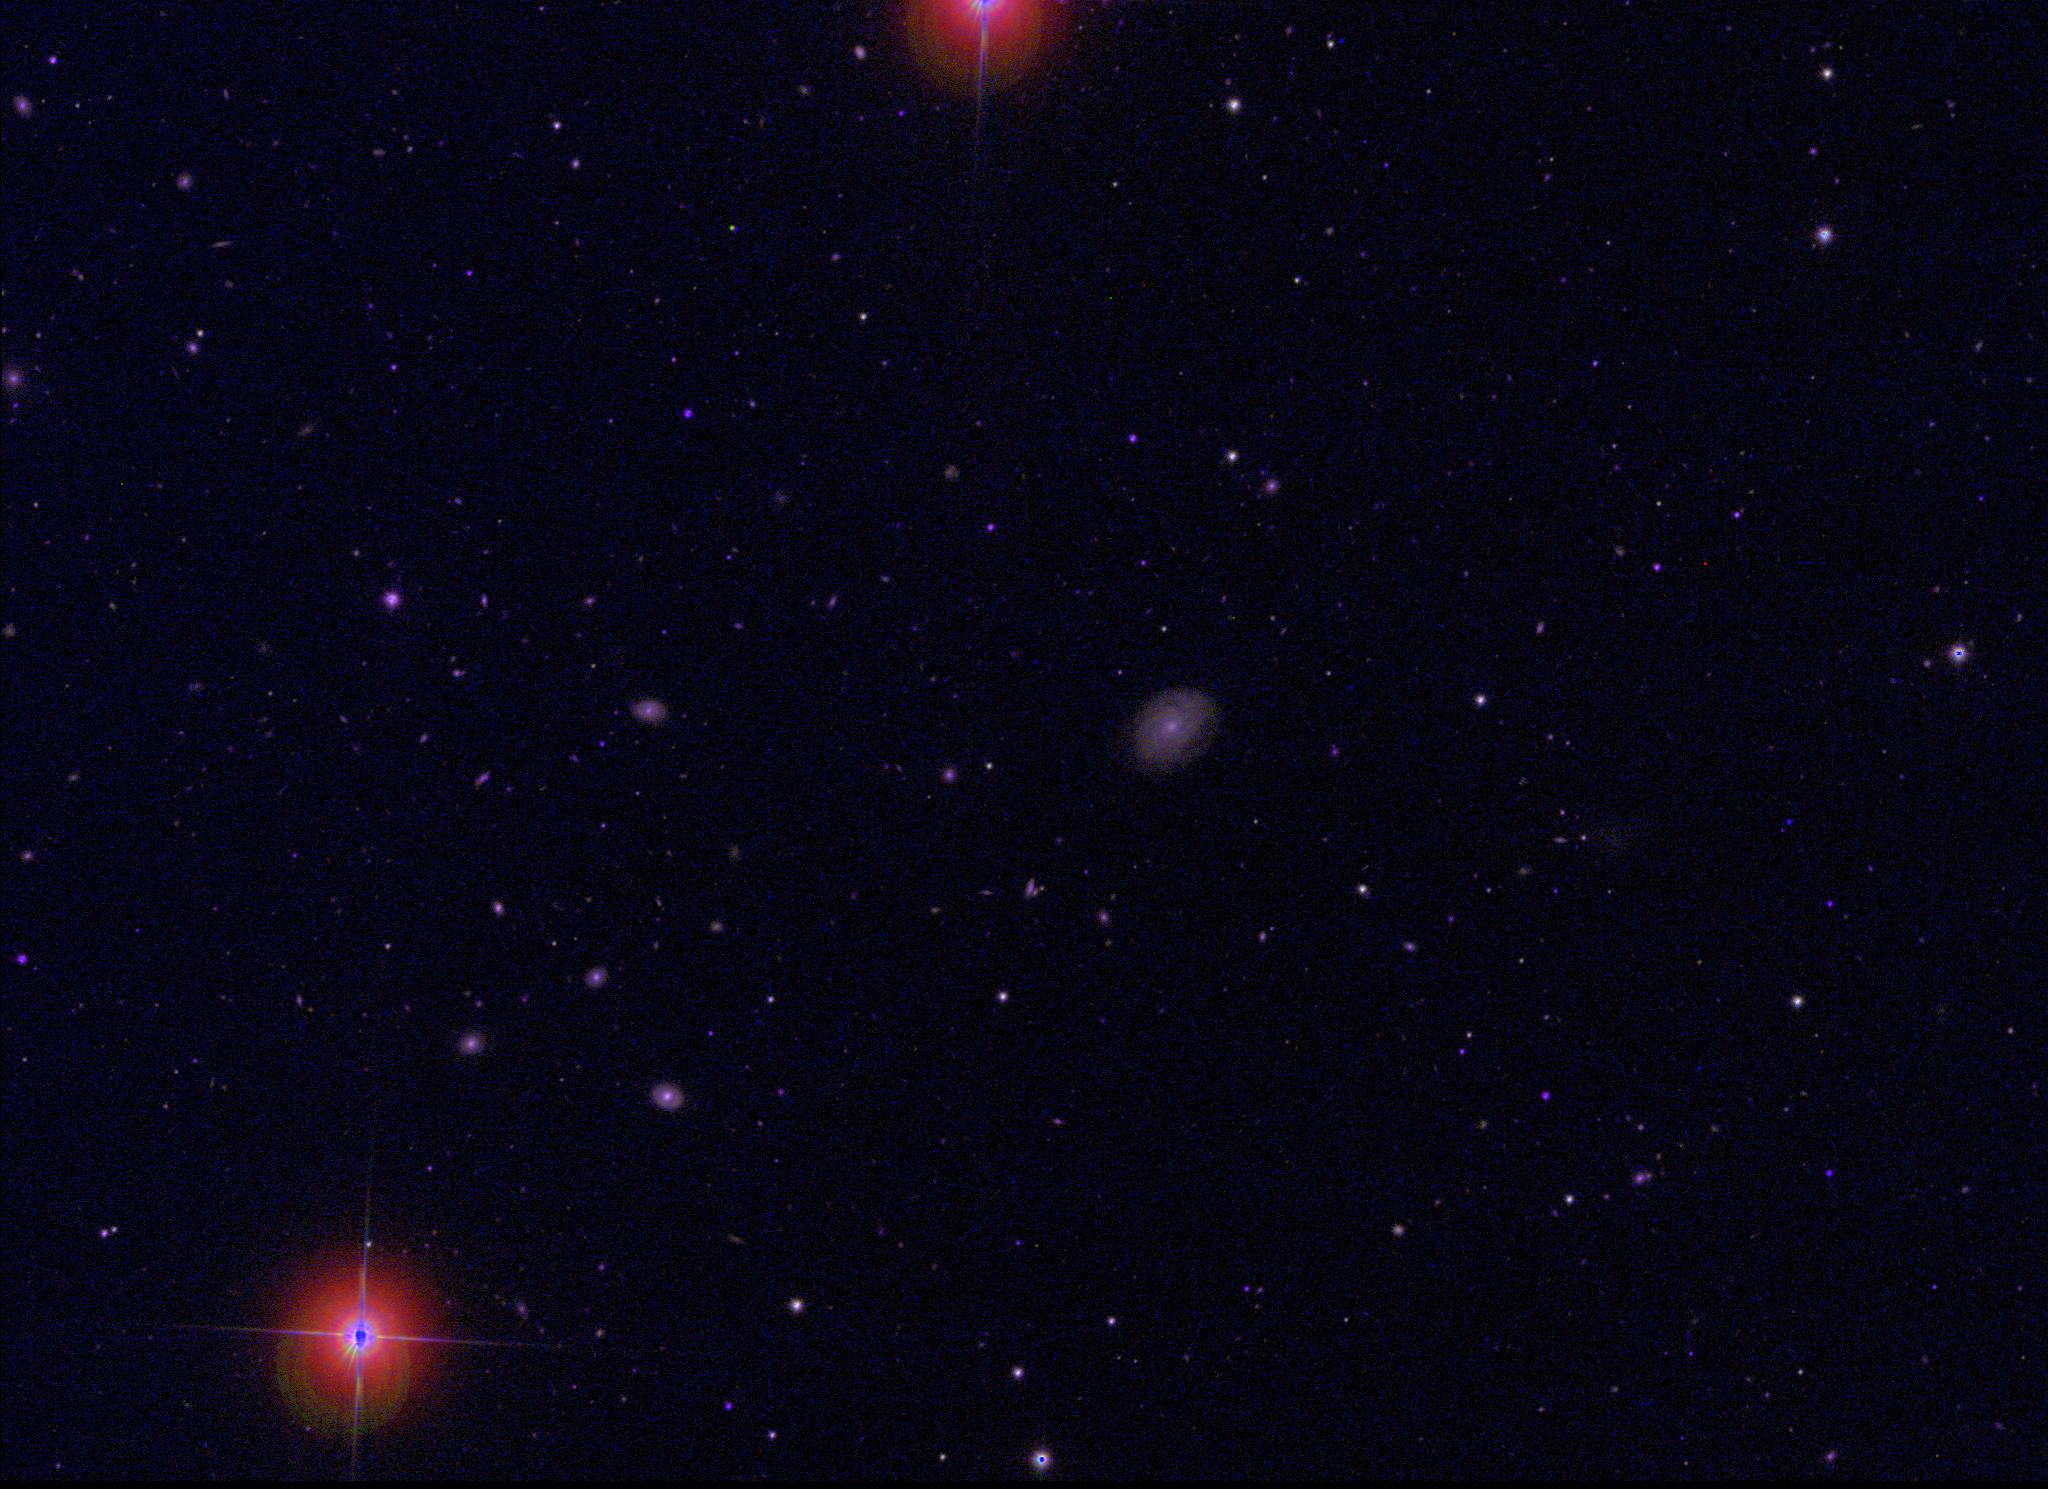L: (1782, 814, 1797, 829)
